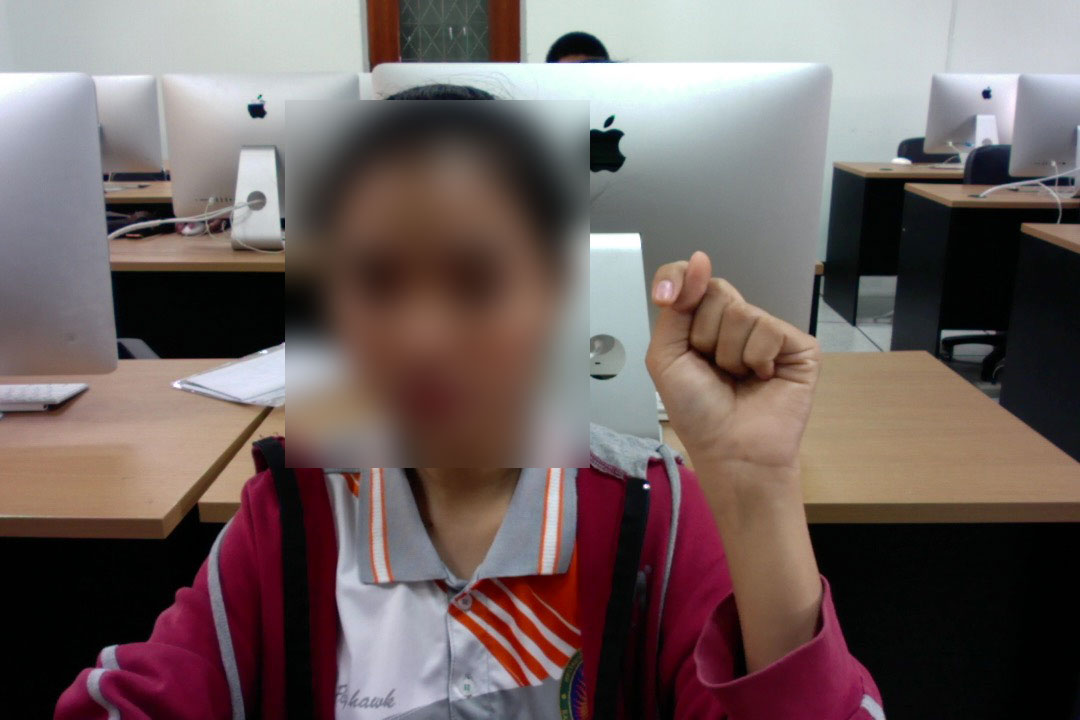tor: (634, 244, 828, 491)
